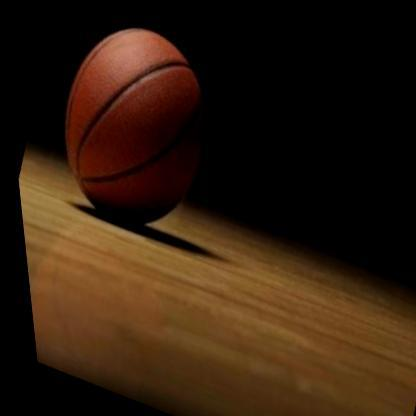basketball: (19, 2, 244, 253)
